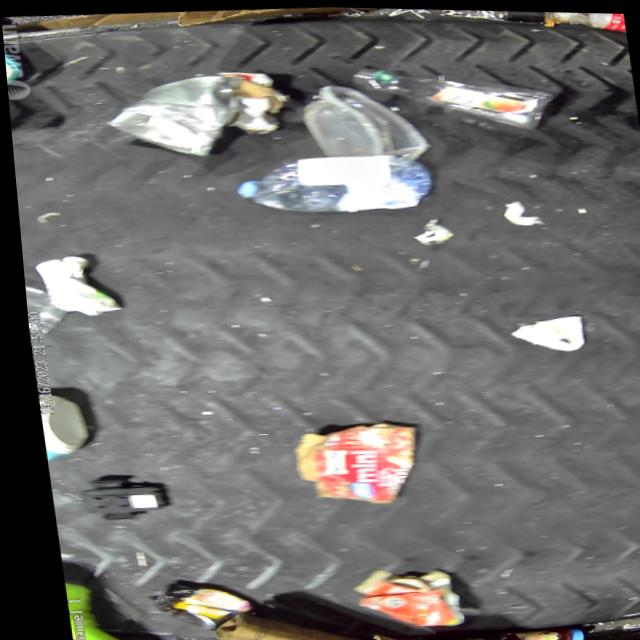can: (99, 71, 247, 161)
milk_jug: (296, 77, 428, 164)
plastic_bottle: (345, 53, 561, 137), (228, 147, 436, 218), (540, 9, 627, 34)
